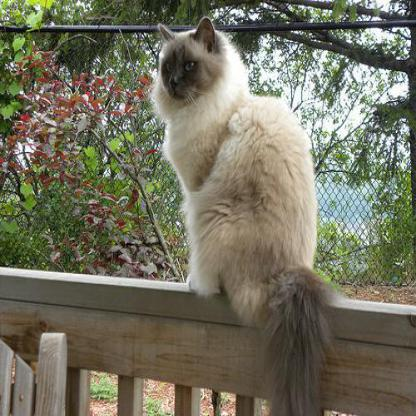cat: (153, 15, 325, 415)
